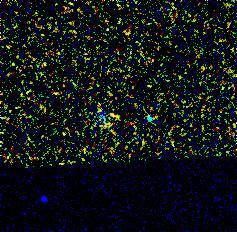star: (102, 99, 132, 129)
